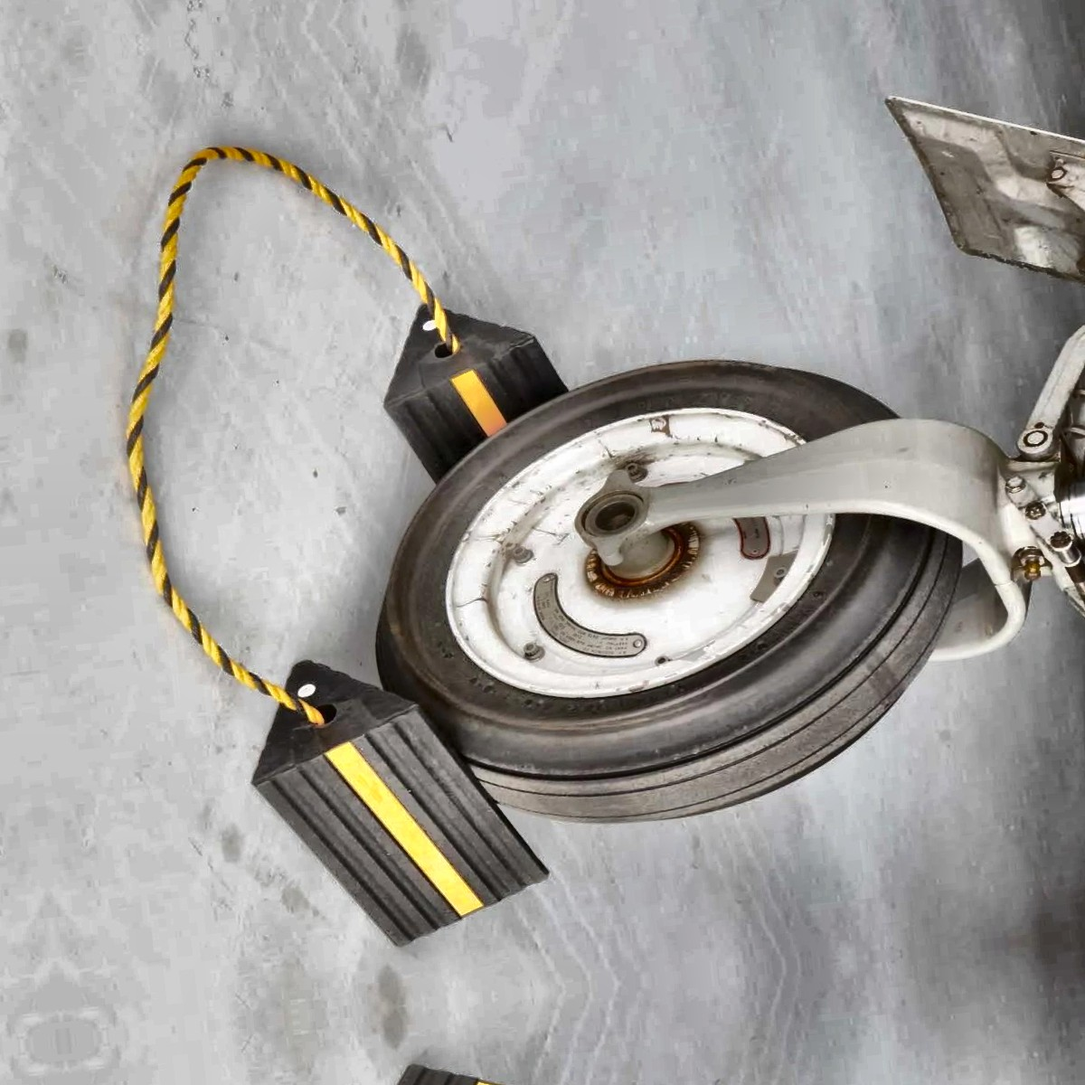chock: (235, 628, 558, 963), (367, 284, 627, 606)
wheel: (356, 332, 982, 840)
